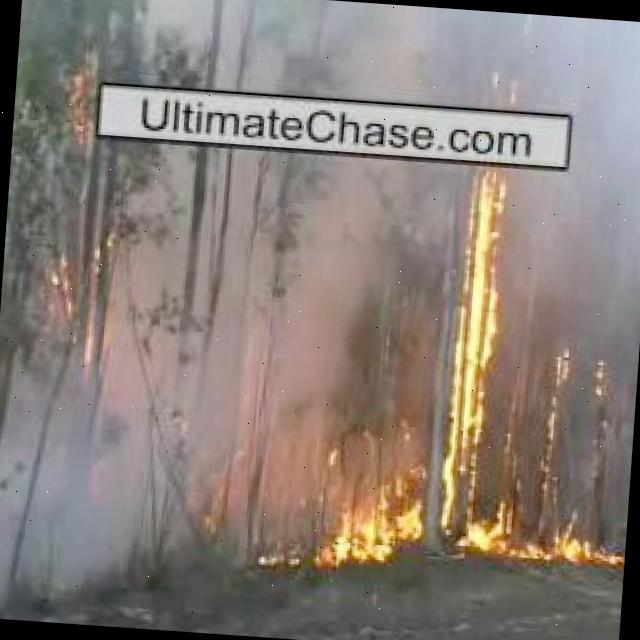fire: (440, 100, 520, 522), (294, 481, 422, 568), (53, 58, 107, 168), (460, 534, 624, 570), (48, 233, 105, 335), (544, 340, 575, 481)
